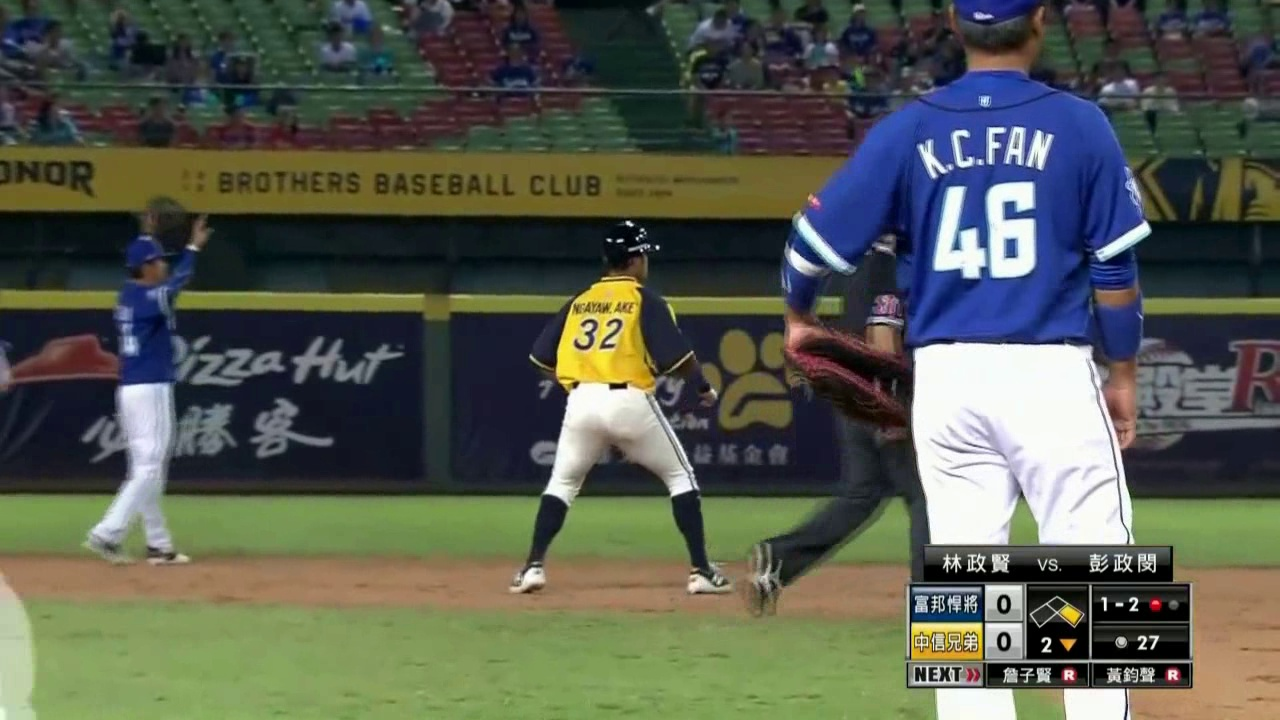base: (1028, 592, 1086, 630)
out: (1146, 592, 1183, 618)
score1: (989, 589, 1020, 619)
score2: (987, 624, 1021, 660)
session: (1028, 633, 1086, 658)
strikeball: (1093, 590, 1142, 620)
total: (1095, 628, 1187, 657)
